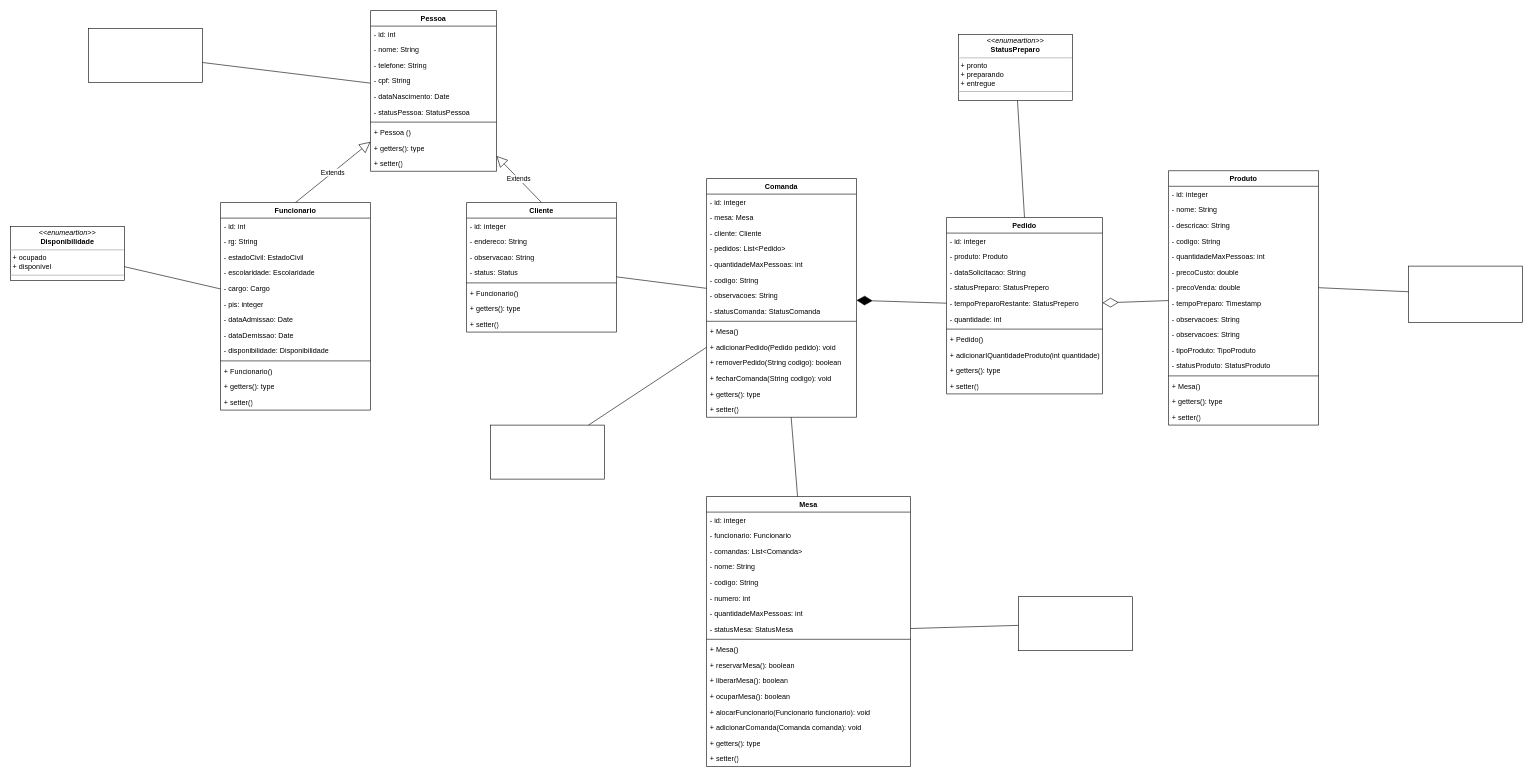
Image size: 1533x779. Some labels were removed from this diagram. Here are the shapes that lost their labels. From the top down, the box of each, then its label:
(88, 28, 202, 82): <<enumeartion>> StatusPessoa + ativo + inativo
(1408, 266, 1522, 322): <<enumeartion>> StatusProduto + ativo + inativo
(490, 424, 604, 479): <<enumeartion>> StatusComanda + ativo + inativo
(1018, 596, 1132, 651): <<enumeartion>> StatusMesa + livre + ocupada + reservada
